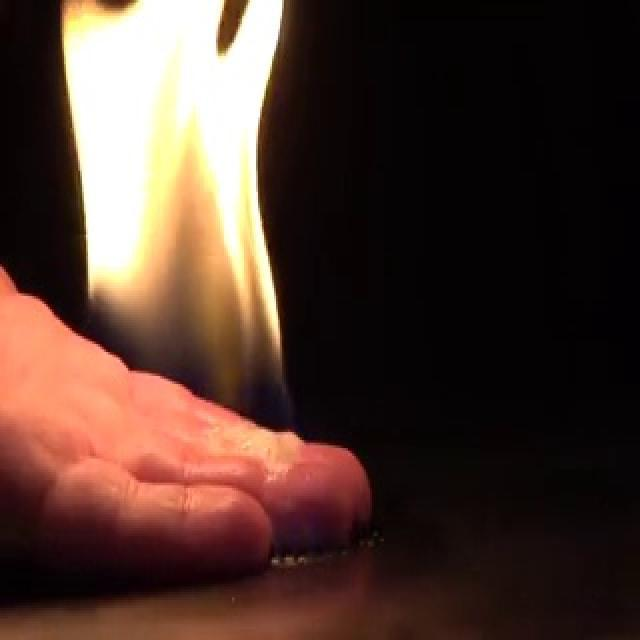fire: (118, 46, 288, 430)
